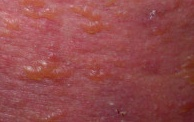SJS-TEN: (2, 0, 138, 41), (10, 51, 129, 91)
